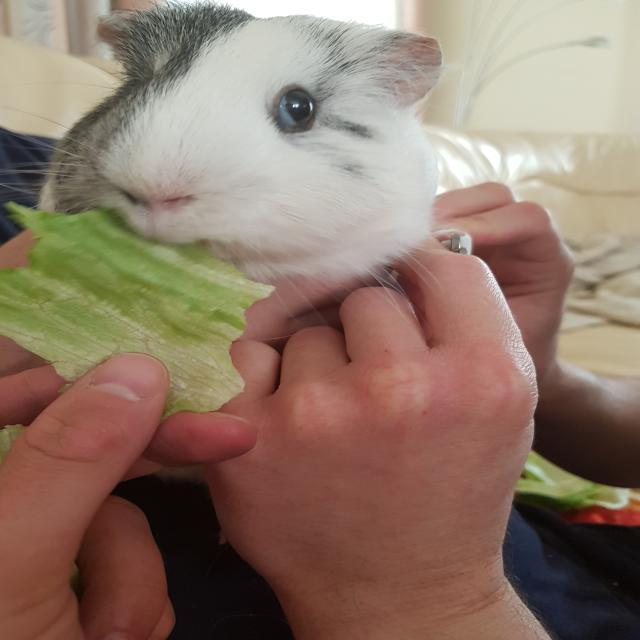Guinea Pig: (17, 0, 462, 317)
